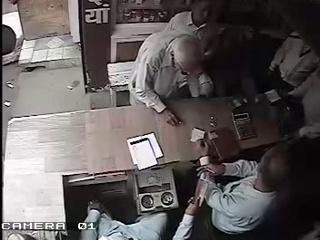Normal: (172, 141, 294, 240), (128, 28, 217, 126)
